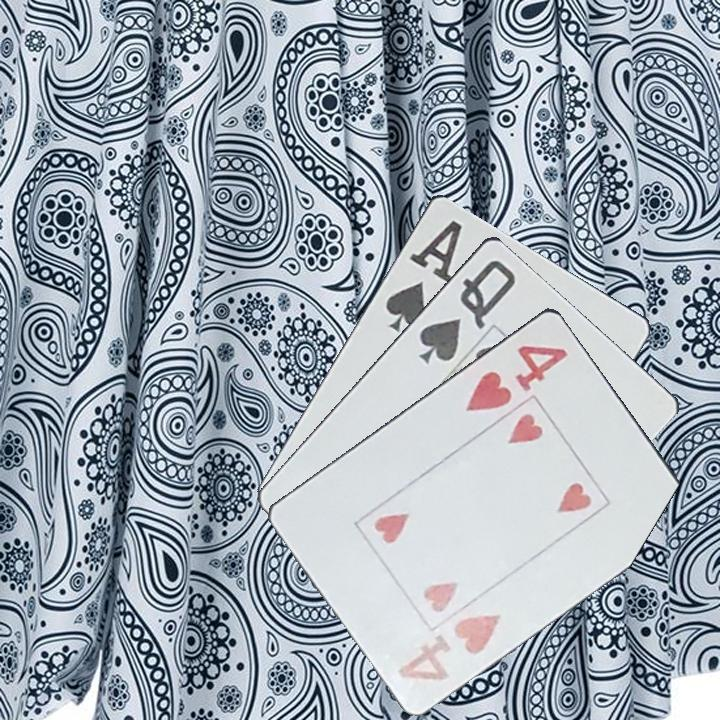4h: (461, 338, 571, 414), (394, 609, 504, 684)
As: (381, 215, 465, 335)
Qs: (415, 255, 519, 367)
